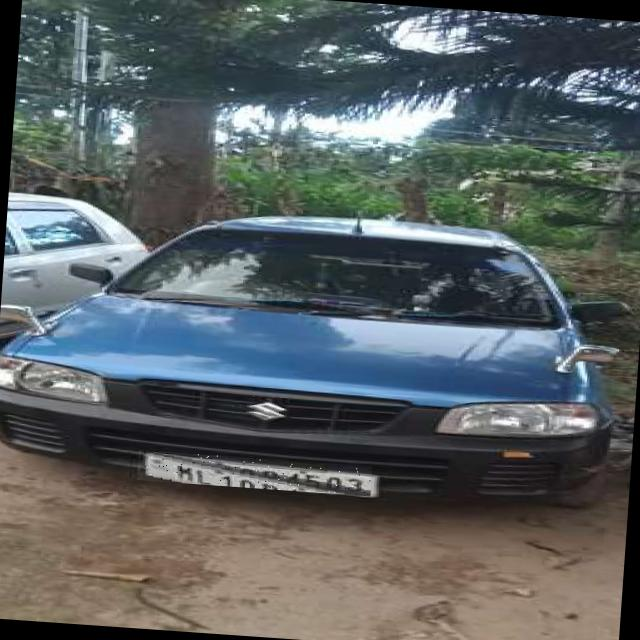Plate: (137, 451, 373, 497)
